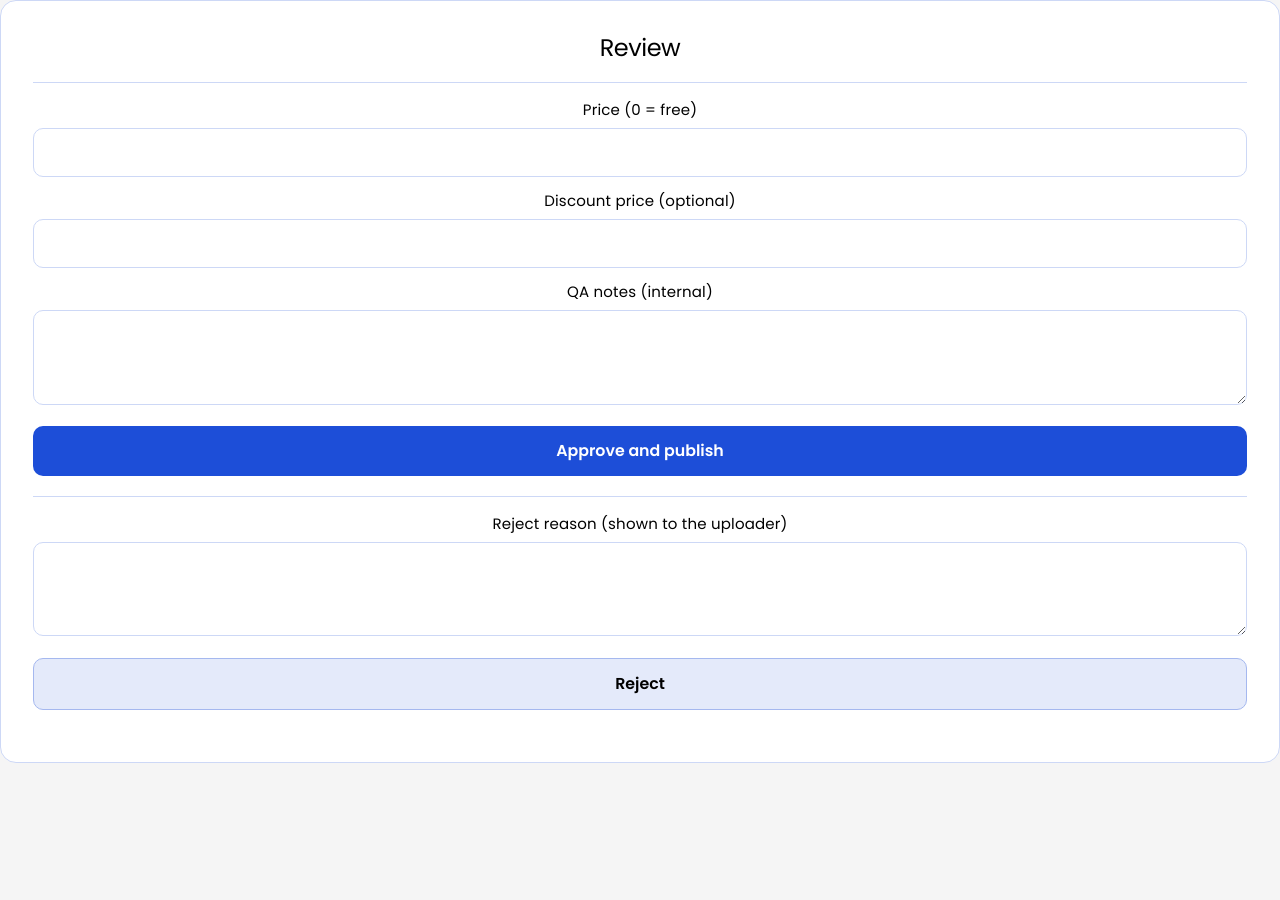
Test: PluginReviewPanel › refuses to approve without a valid price
In the field labelled "Price (0 = free)": (640, 152) [33, 128, 1247, 177], type "abc"
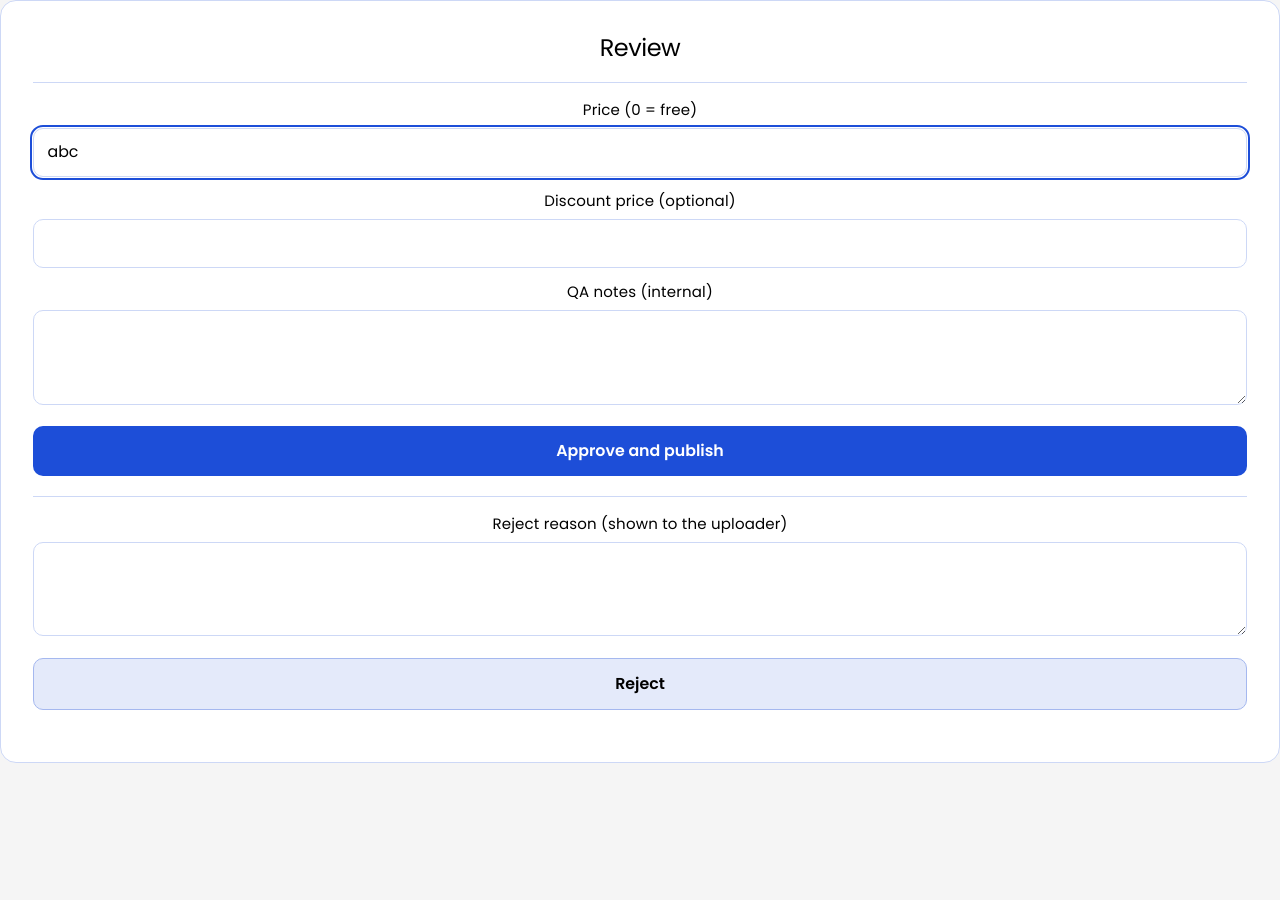
Click the button "Approve and publish": click(640, 451) [33, 426, 1247, 476]
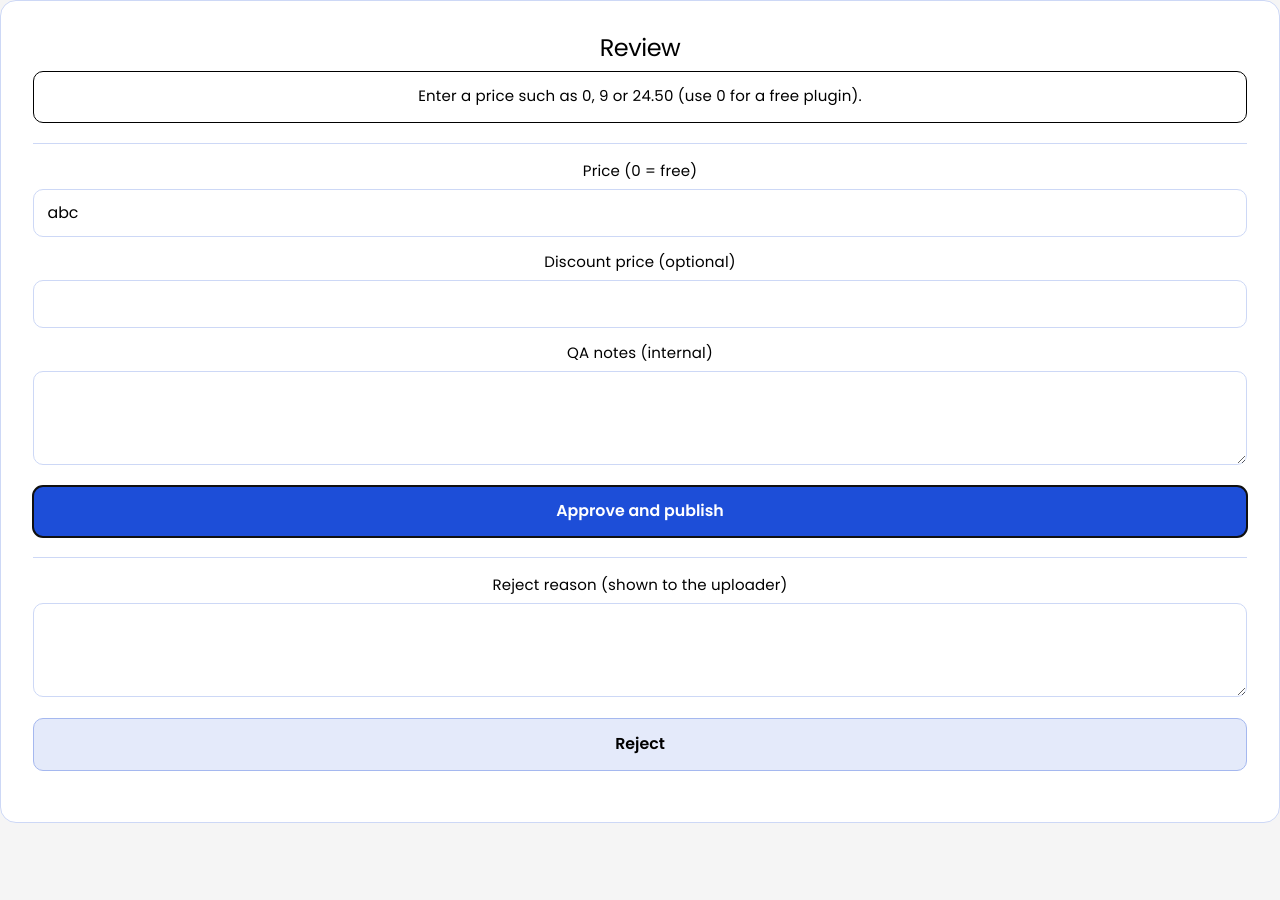
Result: the text "Enter a price such as 0, 9 or 24.50 (use 0 for a free plugin)." is shown at [33, 71, 1247, 123]
